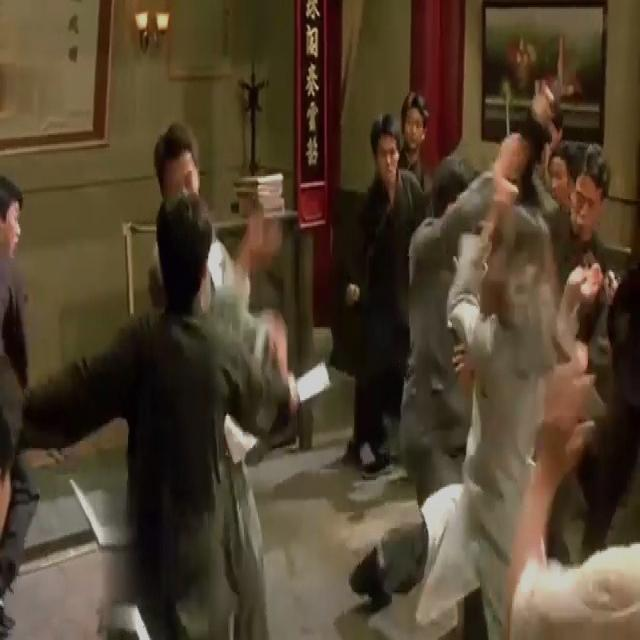fight: (3, 98, 299, 640), (348, 150, 602, 628)
